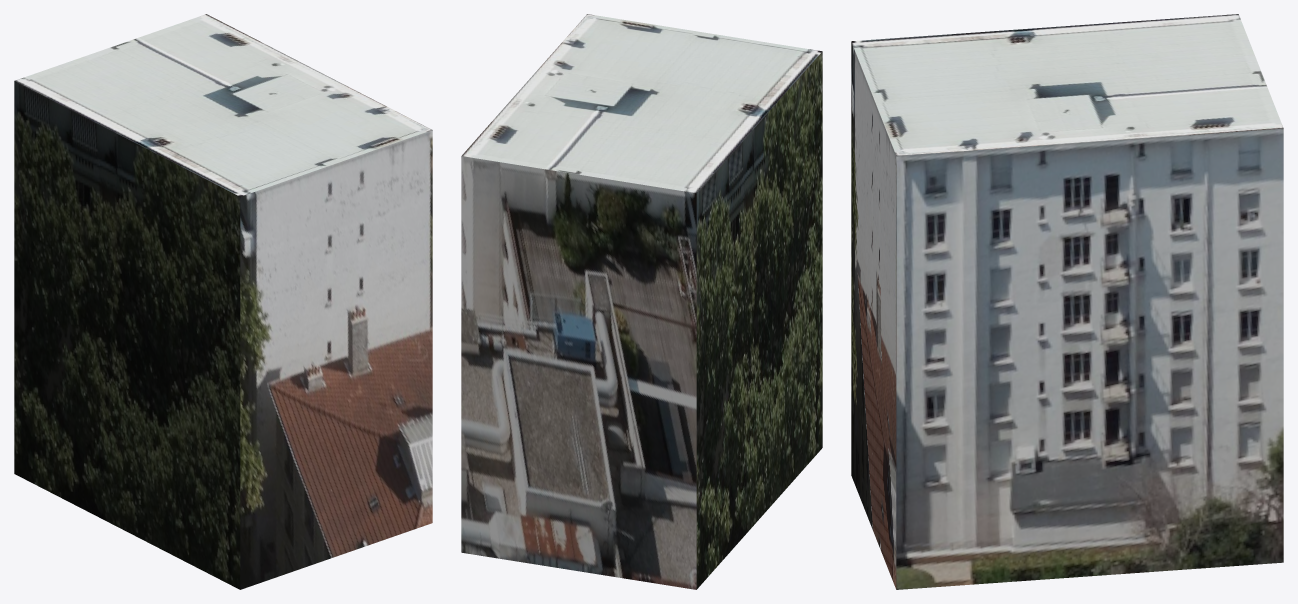
The picture shows the model from 3 angles, left to right: view 1: azimuth 30°, elevation 25°; view 2: azimuth 150°, elevation 25°; view 3: azimuth 270°, elevation 25°; orthographic projection. The views are drawn at different scales.
Visible parts, largest first — view 1: Z_UP; view 2: Z_UP; view 3: Z_UP.
Part boxes in pixels (x1,y1,x2,y2): Z_UP: [14, 14, 432, 589]; Z_UP: [461, 14, 822, 589]; Z_UP: [851, 14, 1283, 589].
Size of the model in its own units: 17.66 by 25.18 by 22.74.
Materials: 2 (1 with a texture image).
